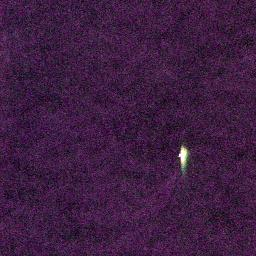Ship: (175, 143, 189, 169)
